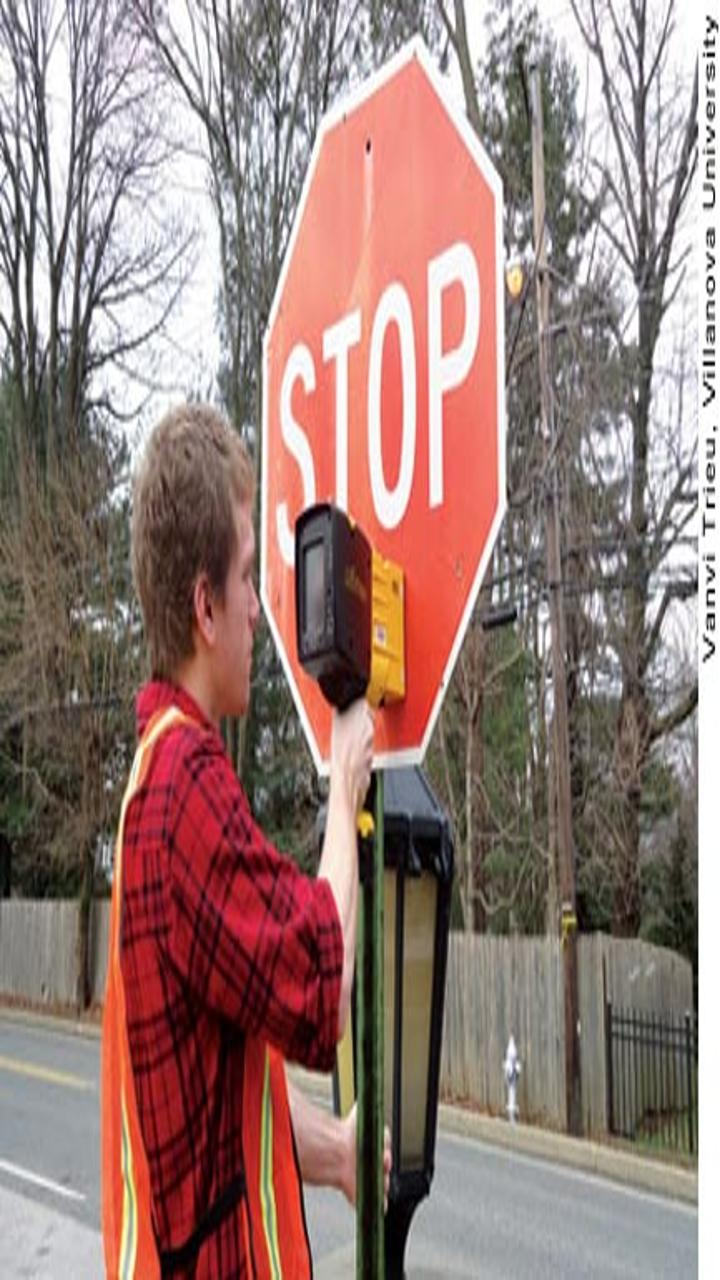Traffic sign: (256, 61, 515, 763)
pedestrian: (82, 403, 326, 1280)
